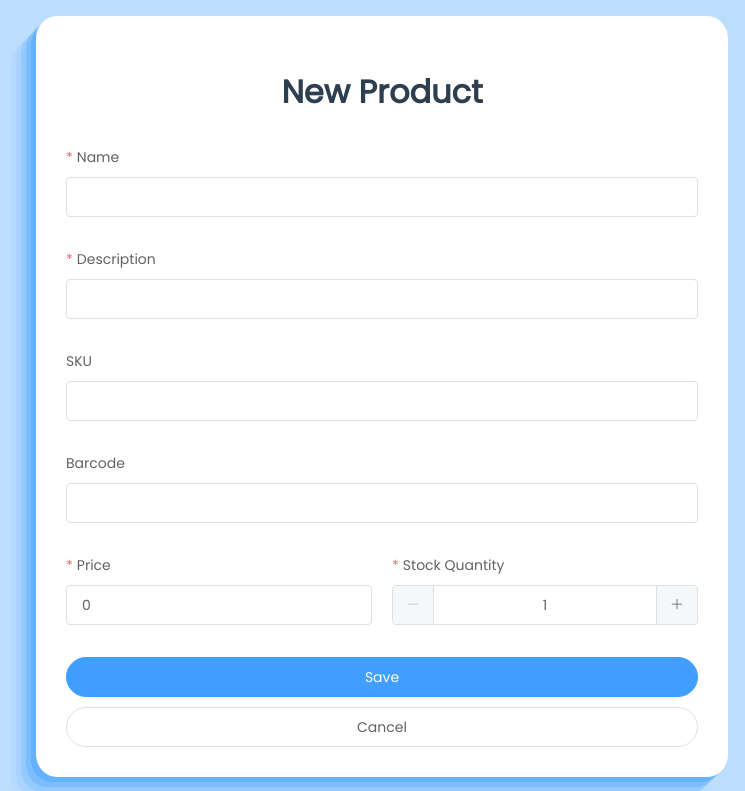
Test: Create Product › empty form validation
Click the button "Save". click: (382, 677)
box: [66, 657, 698, 697]
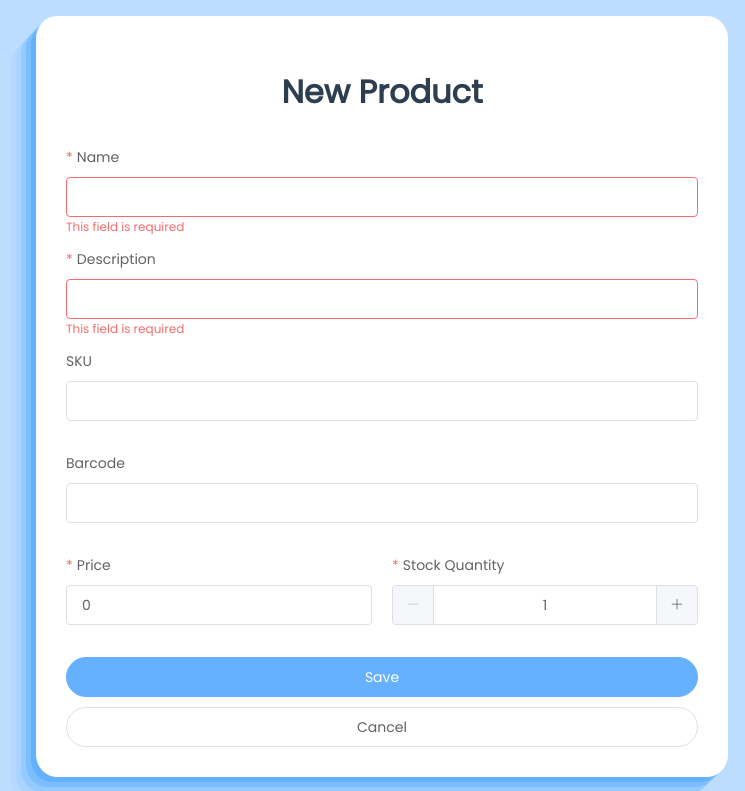
Check: the text "This field is required" below "Name" is shown, box [66, 218, 184, 235]
Check: the text "This field is required" below "Description" is shown, box [66, 320, 184, 337]
